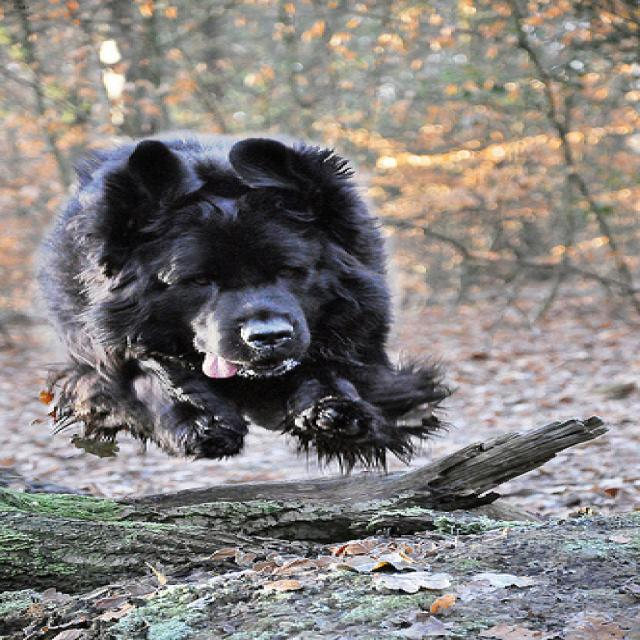dog-newfoundland: (15, 127, 459, 474)
